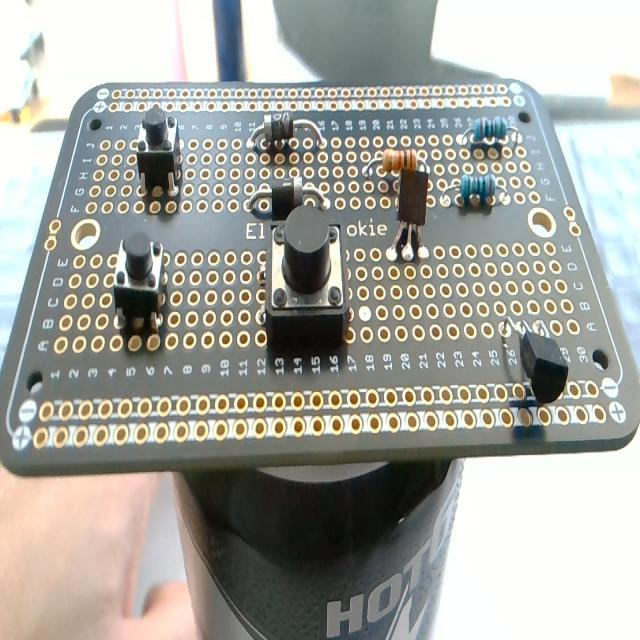diode: (248, 174, 323, 220), (249, 112, 326, 154)
led: (386, 165, 432, 252)
resistor: (364, 148, 432, 182), (460, 173, 495, 204), (475, 116, 507, 141)
switch: (264, 206, 349, 348), (113, 232, 165, 339), (135, 106, 183, 195)
transistor: (498, 311, 572, 409)
